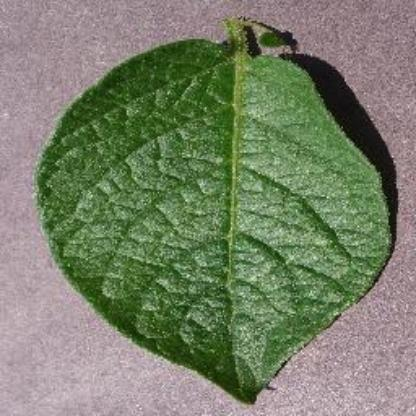Healthy-plant: (32, 11, 395, 404)
